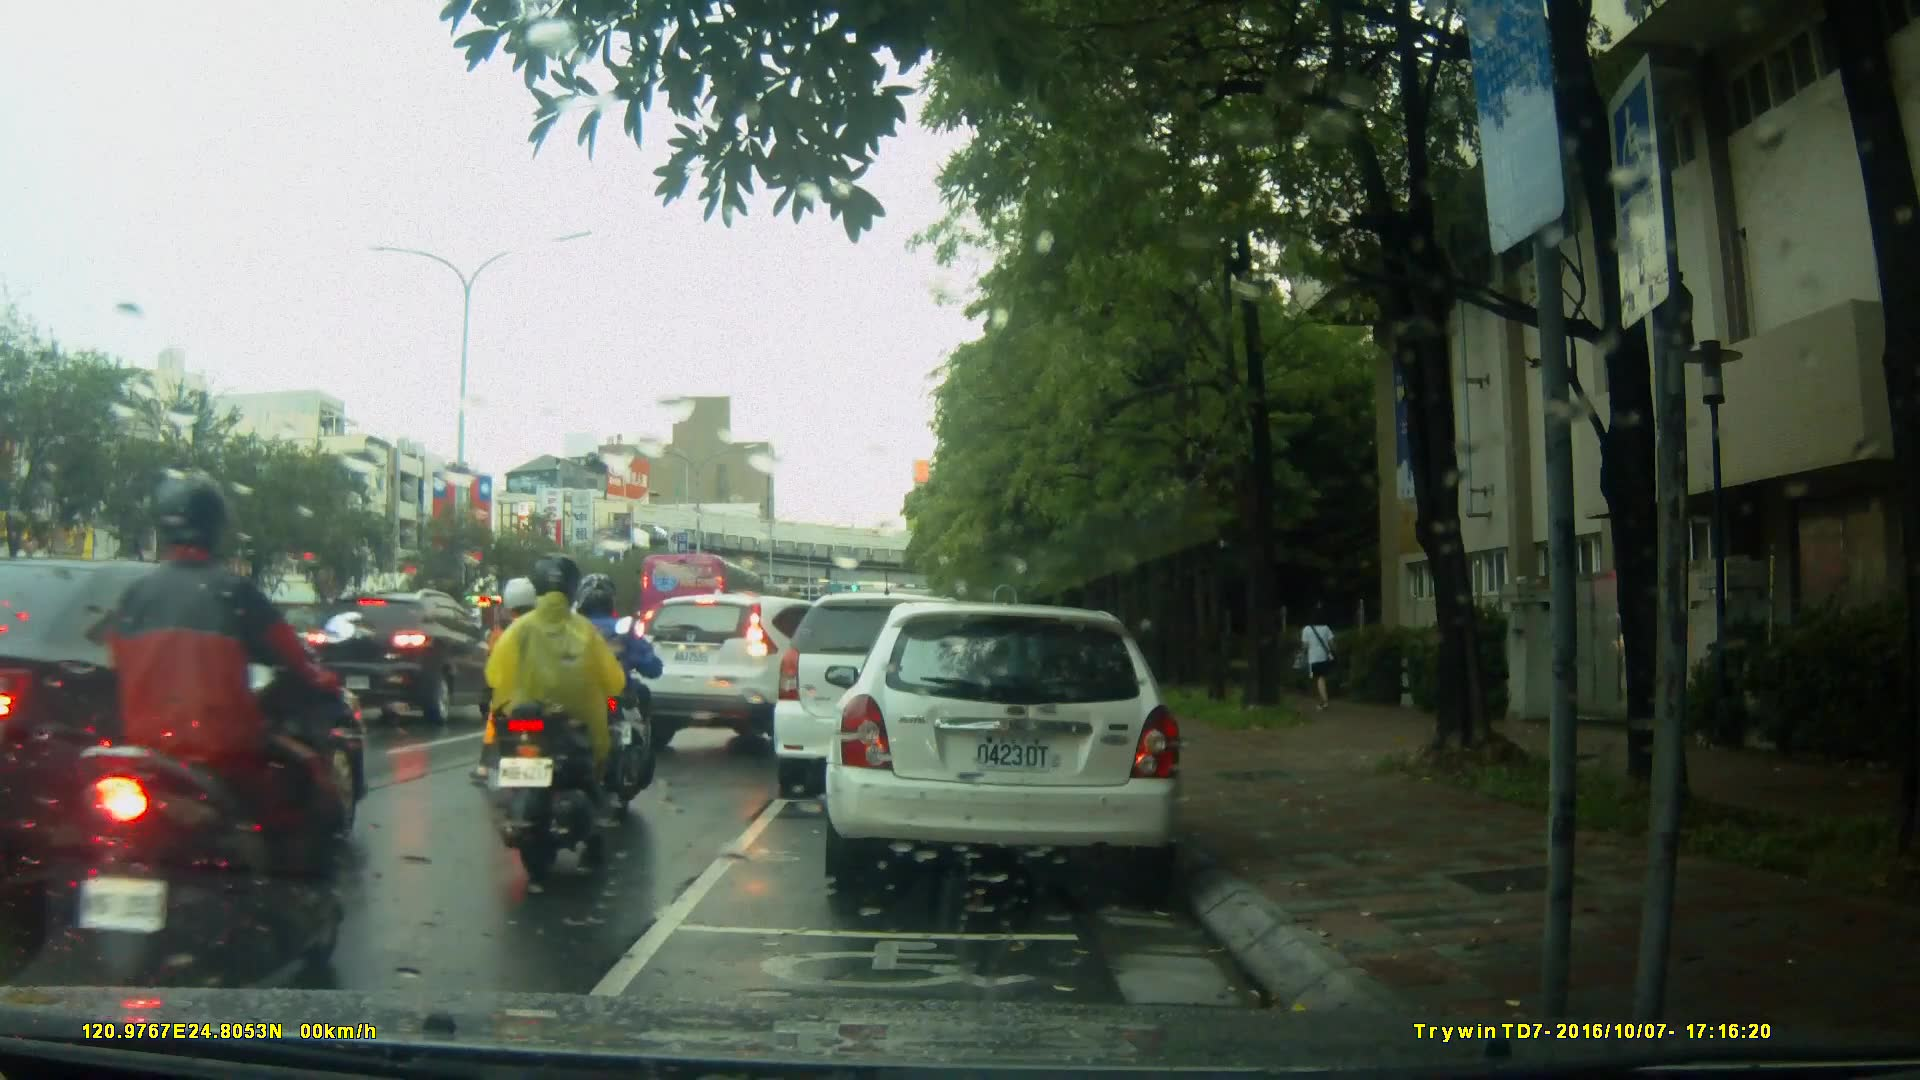pedestrian: (1291, 601, 1347, 722)
rider: (58, 482, 370, 1003), (483, 561, 626, 876), (552, 569, 663, 826), (468, 575, 551, 805)
vehicle: (1, 554, 364, 911), (835, 594, 1194, 898), (776, 590, 1026, 784), (623, 589, 881, 759), (301, 586, 510, 726), (639, 551, 768, 639)
